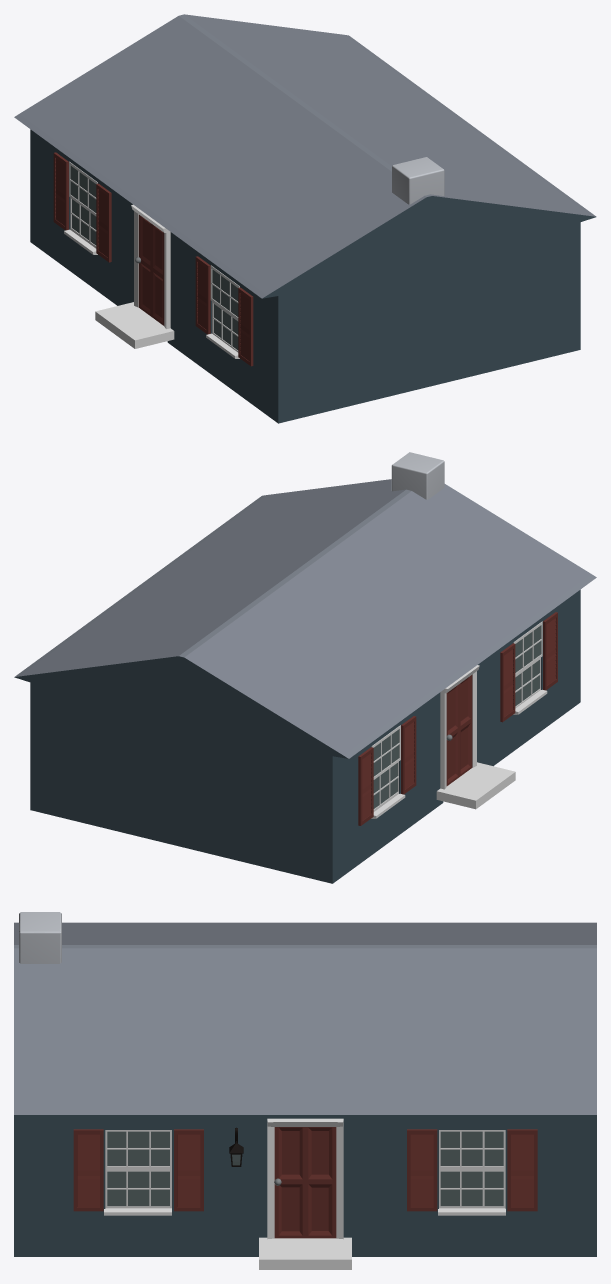
File: house_darkblue_temp.fbx
3 views of the same model, one above another, from view 1: azimuth 30°, elevation 25°; view 2: azimuth 150°, elevation 25°; view 3: azimuth 270°, elevation 25° (orthographic). The views are drawn at different scales.
Visible parts, largest first — view 1: house_base, front_door, window_panel_r (×2), window_panel_l (×2), back_door_stoop, chimney1, window_glass (×2), window_glass1 (×2), front_door_frame; view 2: house_base, front_door, window_panel_l (×2), window_panel_r (×2), back_door_stoop, chimney1, window_glass (×2), front_door_frame, window_glass1 (×2); view 3: house_base, front_door, window_panel_l (×2), window_panel_r (×2), window_glass1 (×2), window_glass (×2), front_door_stoop, front_door_frame, chimney1, window_boxes (×2), window_boxes1 (×2), sill_4 (+1 smaller).
Boxes of the visible parts, x1=… form: house_base: x1=14, y1=14, x2=596, y2=423; front_door: x1=138, y1=214, x2=164, y2=325; window_panel_r (×2): x1=96, y1=183, x2=253, y2=366; window_panel_l (×2): x1=53, y1=152, x2=210, y2=334; back_door_stoop: x1=95, y1=302, x2=174, y2=348; chimney1: x1=392, y1=157, x2=444, y2=204; window_glass (×2): x1=70, y1=165, x2=238, y2=316; window_glass1 (×2): x1=72, y1=199, x2=238, y2=350; front_door_frame: x1=131, y1=204, x2=170, y2=329; house_base: x1=14, y1=479, x2=596, y2=883; front_door: x1=446, y1=675, x2=472, y2=785; window_panel_l (×2): x1=358, y1=643, x2=515, y2=825; window_panel_r (×2): x1=401, y1=612, x2=557, y2=794; back_door_stoop: x1=436, y1=762, x2=515, y2=809; chimney1: x1=391, y1=452, x2=444, y2=499; window_glass (×2): x1=373, y1=625, x2=541, y2=776; front_door_frame: x1=440, y1=665, x2=479, y2=789; window_glass1 (×2): x1=373, y1=660, x2=539, y2=808; house_base: x1=14, y1=922, x2=596, y2=1256; front_door: x1=274, y1=1127, x2=336, y2=1238; window_panel_l (×2): x1=73, y1=1129, x2=437, y2=1211; window_panel_r (×2): x1=174, y1=1129, x2=537, y2=1211; window_glass1 (×2): x1=107, y1=1171, x2=503, y2=1206; window_glass (×2): x1=107, y1=1131, x2=503, y2=1165; front_door_stoop: x1=259, y1=1237, x2=351, y2=1269; front_door_frame: x1=267, y1=1118, x2=343, y2=1239; chimney1: x1=19, y1=912, x2=61, y2=963; window_boxes (×2): x1=105, y1=1130, x2=505, y2=1169; window_boxes1 (×2): x1=105, y1=1169, x2=505, y2=1208; sill_4: x1=438, y1=1208, x2=505, y2=1215.
Size of the model in its own units: 46.03 by 24.47 by 52.
